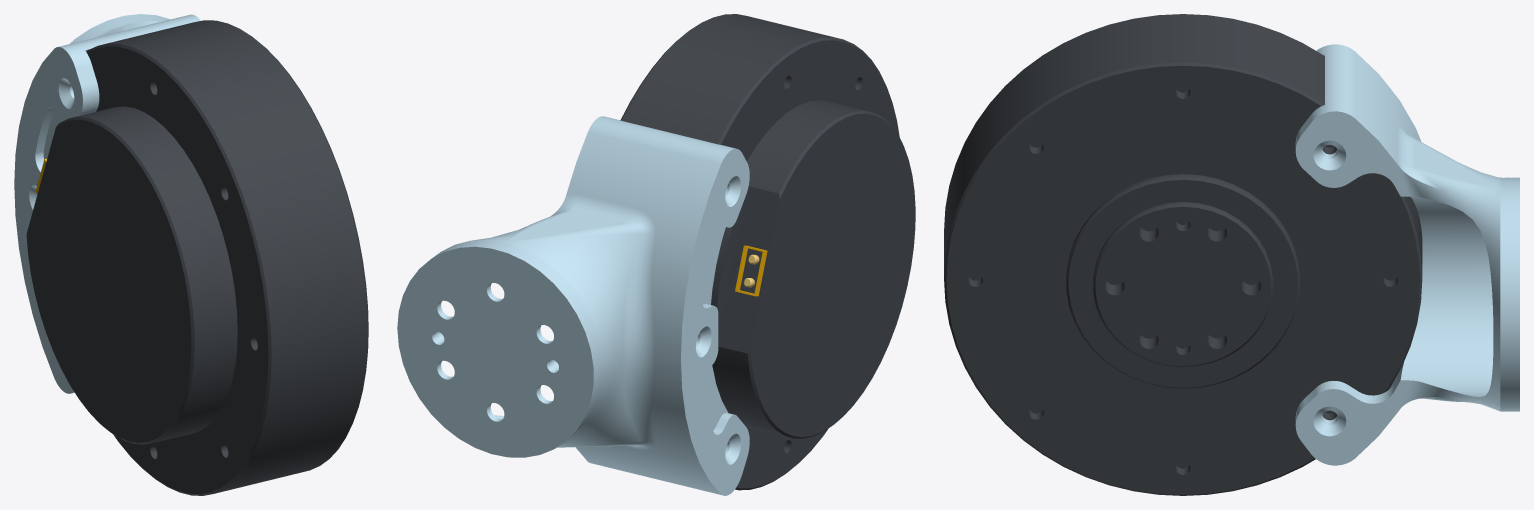
Rendered from r_shoulder_pitch_link.dae.
The picture shows the model from 3 angles, left to right: view 1: azimuth 30°, elevation 25°; view 2: azimuth 150°, elevation 25°; view 3: azimuth 270°, elevation 25°; orthographic projection. The views are drawn at different scales.
Visible parts, largest first — view 1: AK80-9, shoulder_pitch_bracket; view 2: shoulder_pitch_bracket, AK80-9; view 3: AK80-9, shoulder_pitch_bracket.
Part boxes in pixels (<box>): AK80-9: <box>26,20,368,495</box>; shoulder_pitch_bracket: <box>14,14,200,393</box>; shoulder_pitch_bracket: <box>397,116,749,495</box>; AK80-9: <box>620,14,915,490</box>; AK80-9: <box>944,14,1422,495</box>; shoulder_pitch_bracket: <box>1295,44,1519,465</box>.
Bounding box in the file's own units: 0.0665 × 0.098 × 0.118.
